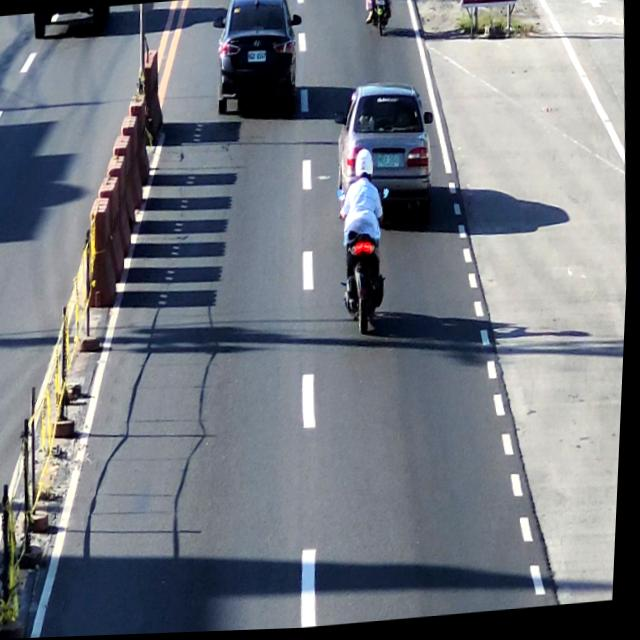Car: (337, 81, 441, 231), (211, 0, 305, 115)
License-Plate: (376, 155, 405, 175), (246, 51, 269, 67), (374, 0, 387, 13)
Motorcycle: (337, 148, 396, 345), (363, 0, 395, 41)
